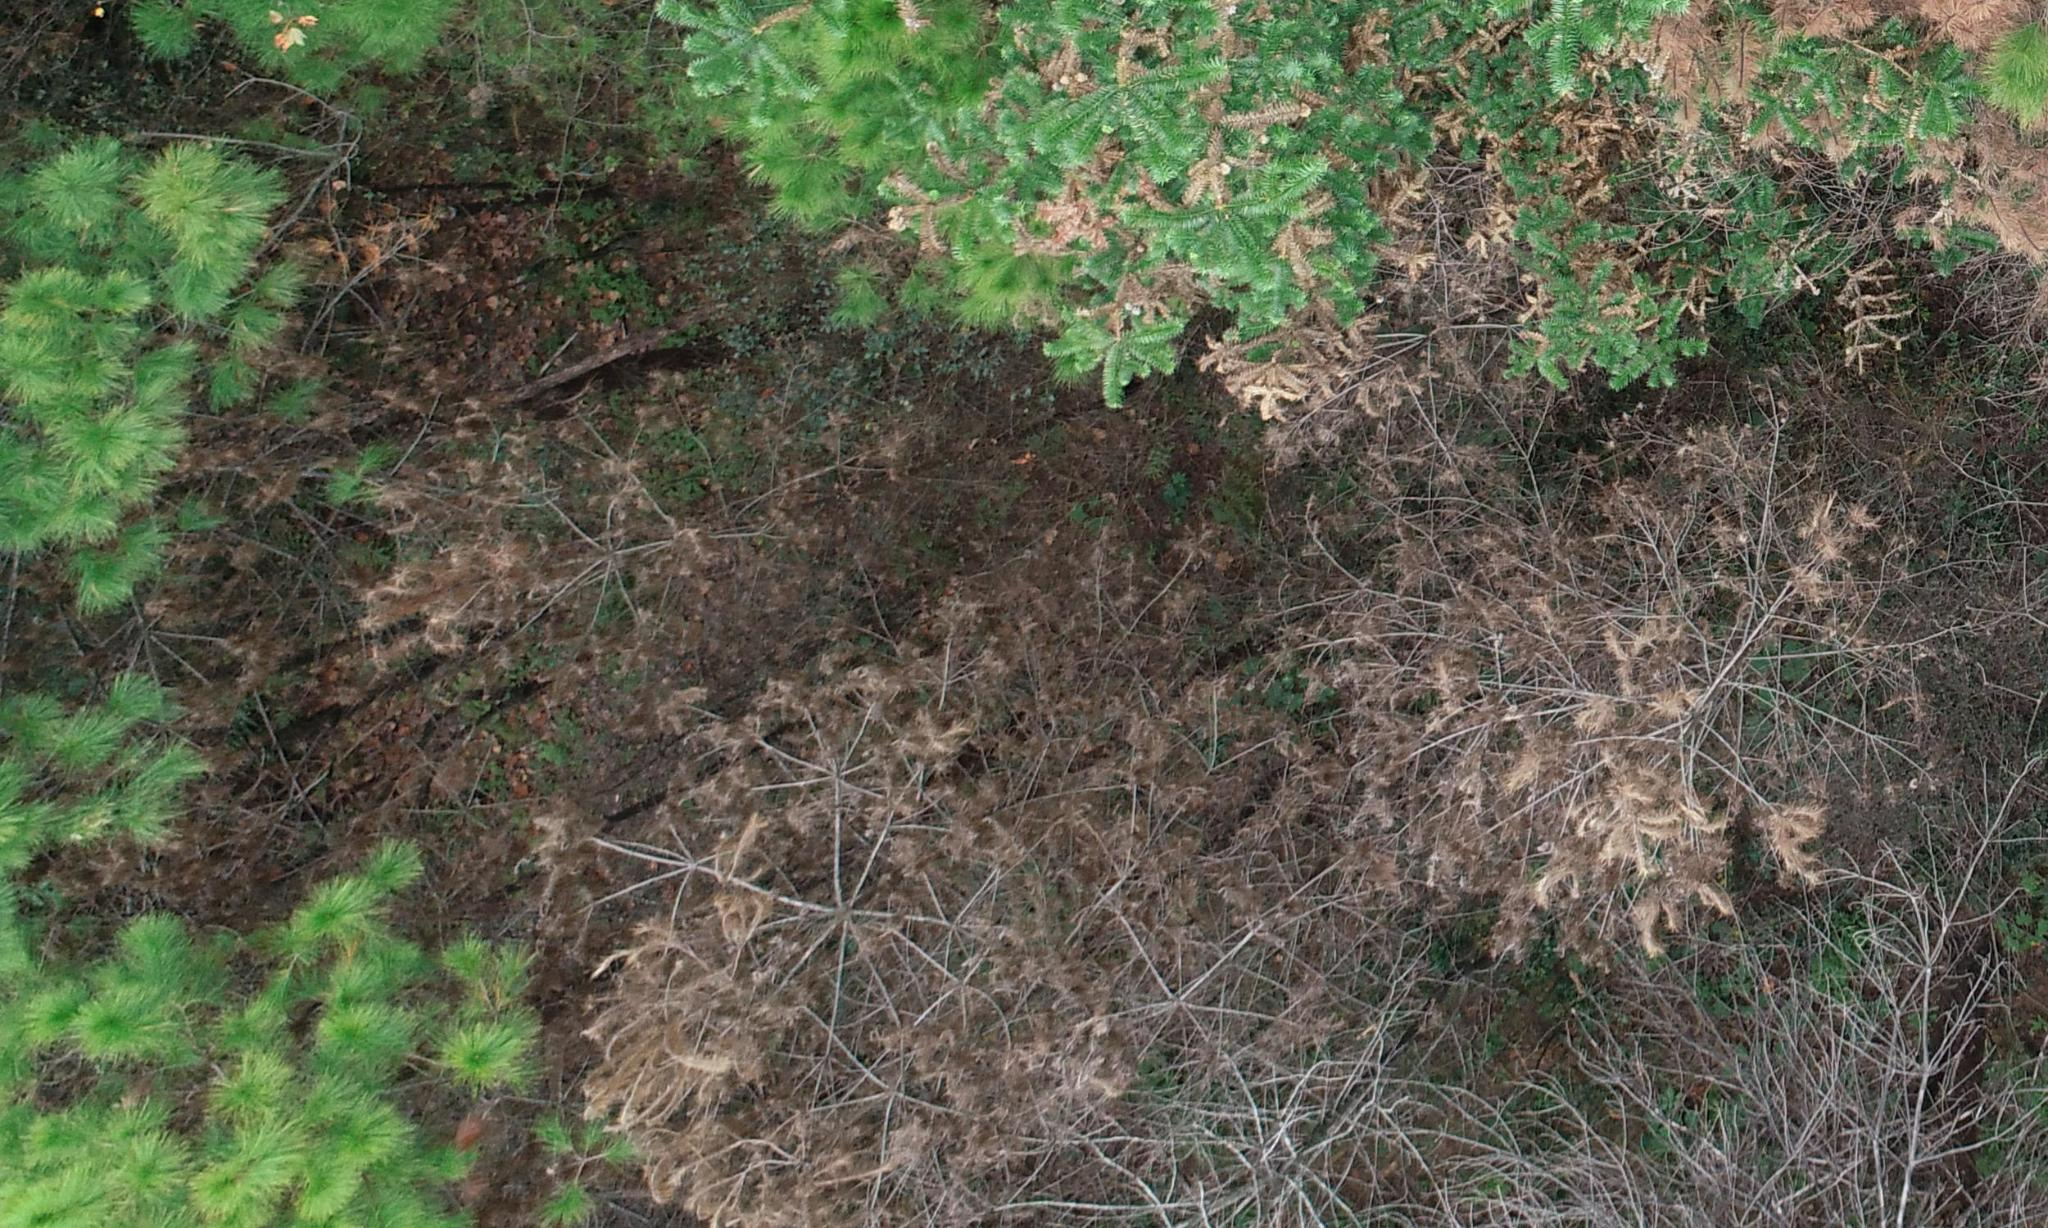dead: (599, 449, 2048, 1228)
heavy: (1498, 6, 2048, 304)
light: (658, 0, 1418, 411)
